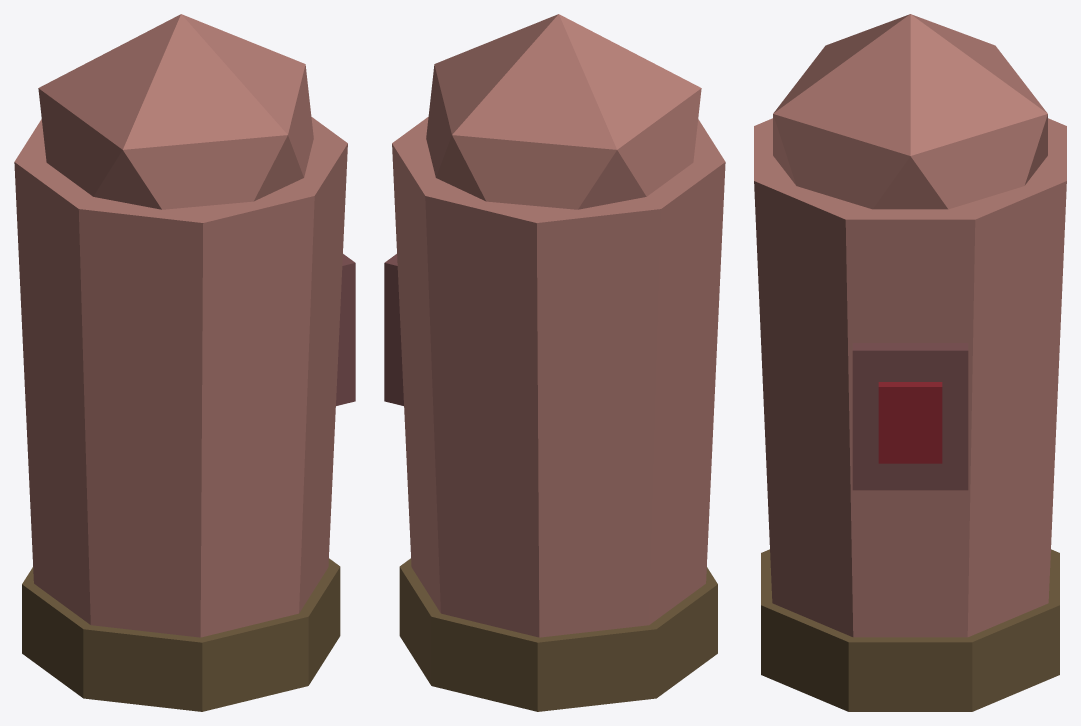
Rendered from inf_driver_lower_arm_r.fbx.
3 views of the same model, side by side, from view 1: azimuth 30°, elevation 25°; view 2: azimuth 150°, elevation 25°; view 3: azimuth 270°, elevation 25° (orthographic).
Parts seen in each view (by area): view 1: inf_driver_lower_arm_r; view 2: inf_driver_lower_arm_r; view 3: inf_driver_lower_arm_r.
Part boxes in pixels (left/top/right/bottom): inf_driver_lower_arm_r: left=14, top=14, right=355, bottom=711; inf_driver_lower_arm_r: left=384, top=14, right=725, bottom=711; inf_driver_lower_arm_r: left=754, top=14, right=1066, bottom=711.
Bounding box in the file's own units: 87.65 × 182 × 81.3.
